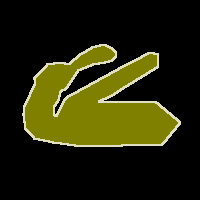tie: (23, 44, 180, 146)
